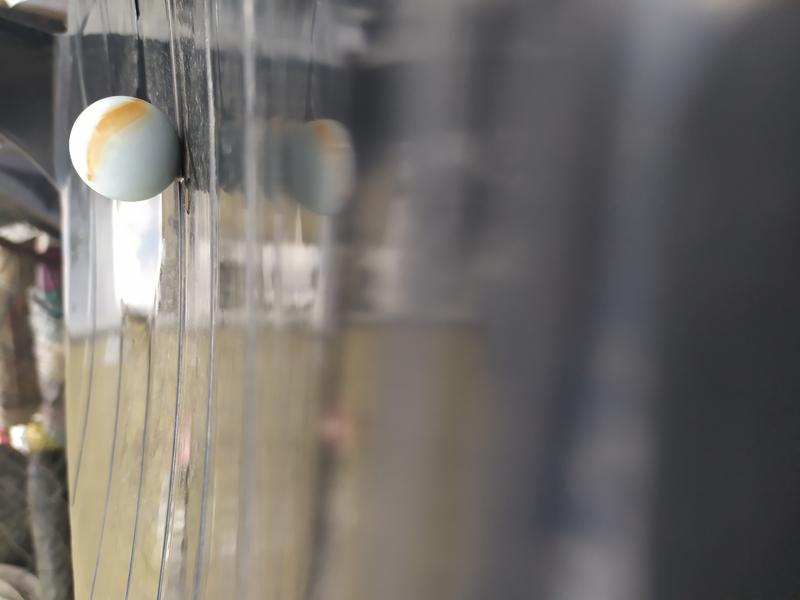Warning: (66, 93, 185, 205)
